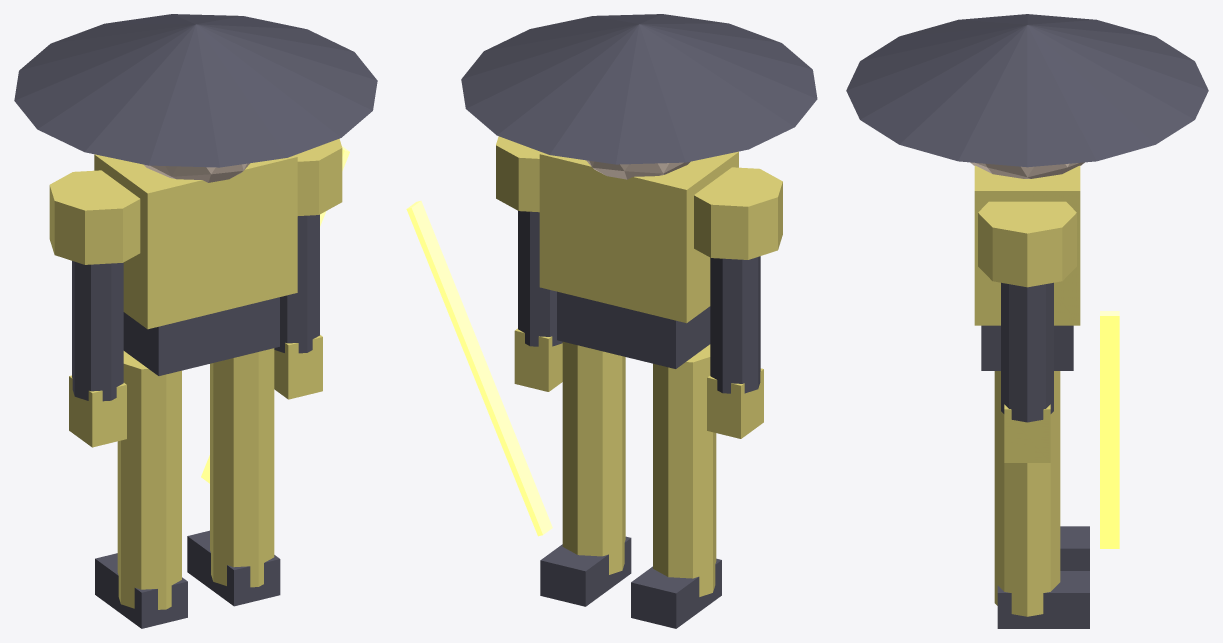
Rendered from hero_raiden.glb.
3 renders of one model, left to right at view 1: azimuth 30°, elevation 25°; view 2: azimuth 150°, elevation 25°; view 3: azimuth 270°, elevation 25°, orthographic.
Parts seen in each view (by area): view 1: Cone, Cube, Cylinder.004, Cylinder.005, Cube.001, Cylinder, Cylinder.002, Cylinder.003, Cube.005, Cube.004, Cylinder.001, Cube.002 (+2 smaller); view 2: Cone, Cube, Cylinder.004, Cylinder.005, Cube.001, Cylinder, Cylinder.002, Cube.006, Cube.005, Cylinder.003, Cube.004, Cylinder.001 (+3 smaller); view 3: Cone, Cylinder.005, Cylinder.001, Cylinder.003, Cube, Cube.006, Cube.005, Cube.003, Cube.001, Cube.004, Icosphere.
Part boxes in pixels (box(x1,y1,x2,y2)): Cone: box(14, 14, 377, 167); Cube: box(94, 154, 297, 329); Cylinder.004: box(117, 351, 181, 609); Cylinder.005: box(210, 348, 274, 587); Cube.001: box(123, 297, 279, 375); Cylinder: box(49, 170, 140, 264); Cylinder.002: box(72, 261, 123, 401); Cylinder.003: box(274, 214, 319, 353); Cube.005: box(187, 530, 280, 606); Cube.004: box(95, 553, 187, 628); Cylinder.001: box(295, 138, 342, 215); Cube.002: box(69, 375, 126, 447); Cone: box(461, 14, 817, 164); Cube: box(539, 151, 738, 323); Cylinder.004: box(653, 344, 716, 596); Cylinder.005: box(562, 341, 625, 574); Cube.001: box(557, 291, 710, 368); Cylinder: box(694, 167, 782, 259); Cylinder.002: box(710, 256, 760, 393); Cube.006: box(406, 201, 552, 536); Cube.005: box(540, 536, 631, 606); Cylinder.003: box(518, 211, 562, 346); Cube.004: box(631, 558, 721, 628); Cylinder.001: box(496, 136, 541, 212); Cone: box(846, 14, 1208, 167); Cylinder.005: box(994, 371, 1060, 616); Cylinder.001: box(978, 201, 1076, 287); Cylinder.003: box(1001, 282, 1053, 422); Cube: box(974, 165, 1080, 325); Cube.006: box(1100, 311, 1119, 548); Cube.005: box(997, 571, 1089, 628); Cube.003: box(1004, 404, 1050, 462); Cube.001: box(981, 325, 1073, 370); Cube.004: box(1060, 526, 1089, 570); Icosphere: box(970, 162, 1084, 178).
Bounding box in the file's own units: 1.21 × 1.91 × 1.1.
